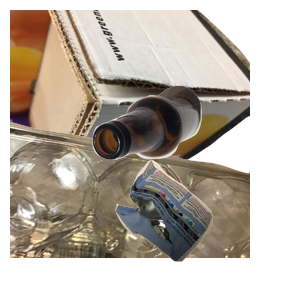cardboard: (10, 10, 250, 190)
glass: (90, 83, 300, 235)
plastic: (10, 120, 250, 300)
trash: (113, 157, 300, 300)
